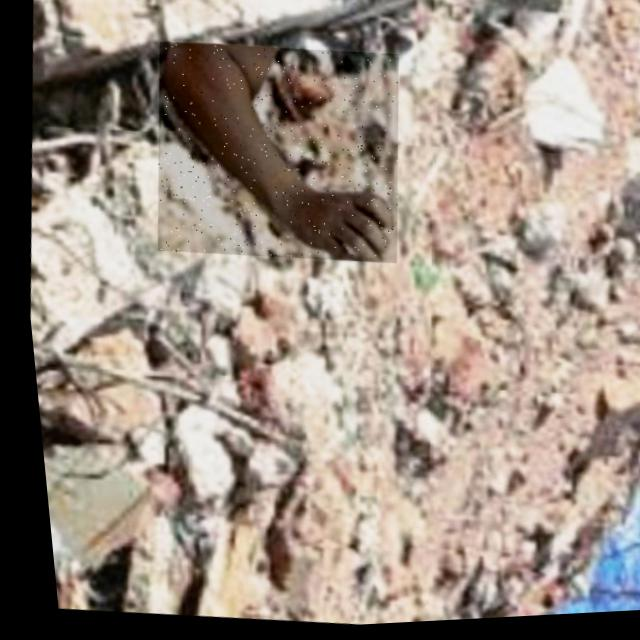Person in Rubble: (135, 33, 412, 277)
